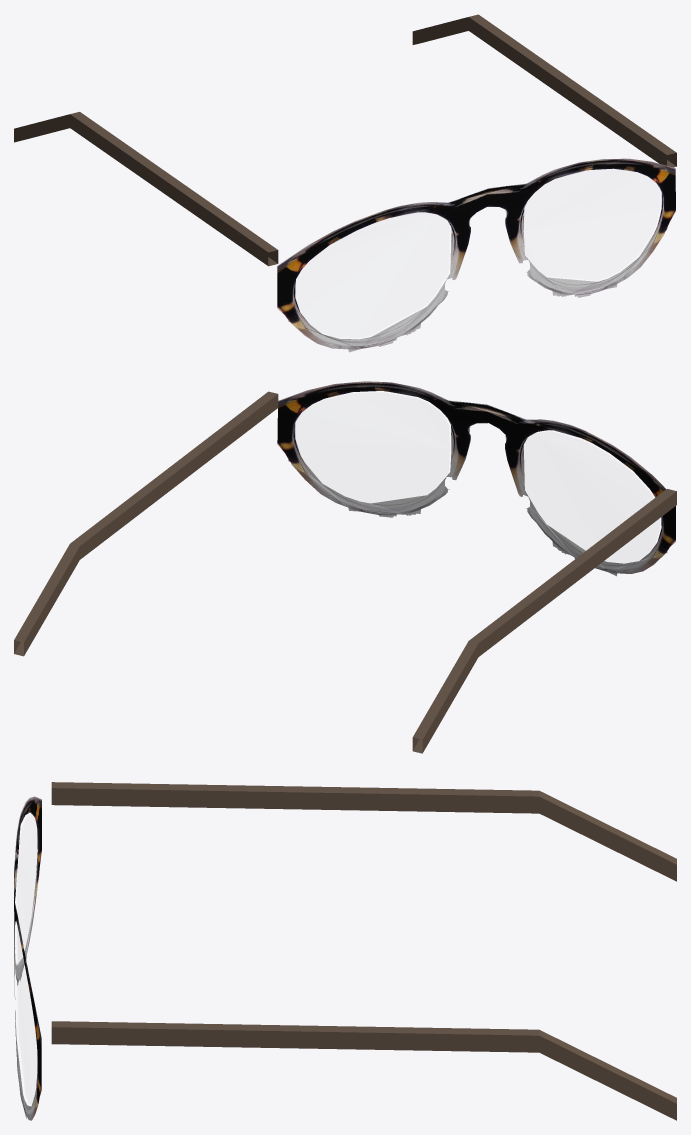
Rendered from gothamstyle-223_tortoise-fade.glb.
The picture shows the model from 3 angles, top to bottom: view 1: azimuth 30°, elevation 25°; view 2: azimuth 150°, elevation 25°; view 3: azimuth 270°, elevation 25°; orthographic projection. The views are drawn at different scales.
Parts seen in each view (by area): view 1: frame_front, temple_viewer_left, temple_viewer_right; view 2: frame_front, temple_viewer_left, temple_viewer_right; view 3: temple_viewer_right, temple_viewer_left, frame_front.
Part boxes in pixels (x1,y1,x2,y2): frame_front: (277,158,675,352); temple_viewer_left: (14,112,278,266); temple_viewer_right: (412,14,676,167); frame_front: (277,381,675,576); temple_viewer_left: (412,489,676,753); temple_viewer_right: (14,391,278,656); temple_viewer_right: (51,1021,676,1120); temple_viewer_left: (51,782,676,881); frame_front: (14,796,41,1120).
Bounding box in the file's own units: 0.1233 × 0.0395 × 0.141.
Materials: 3 (2 with a texture image).
